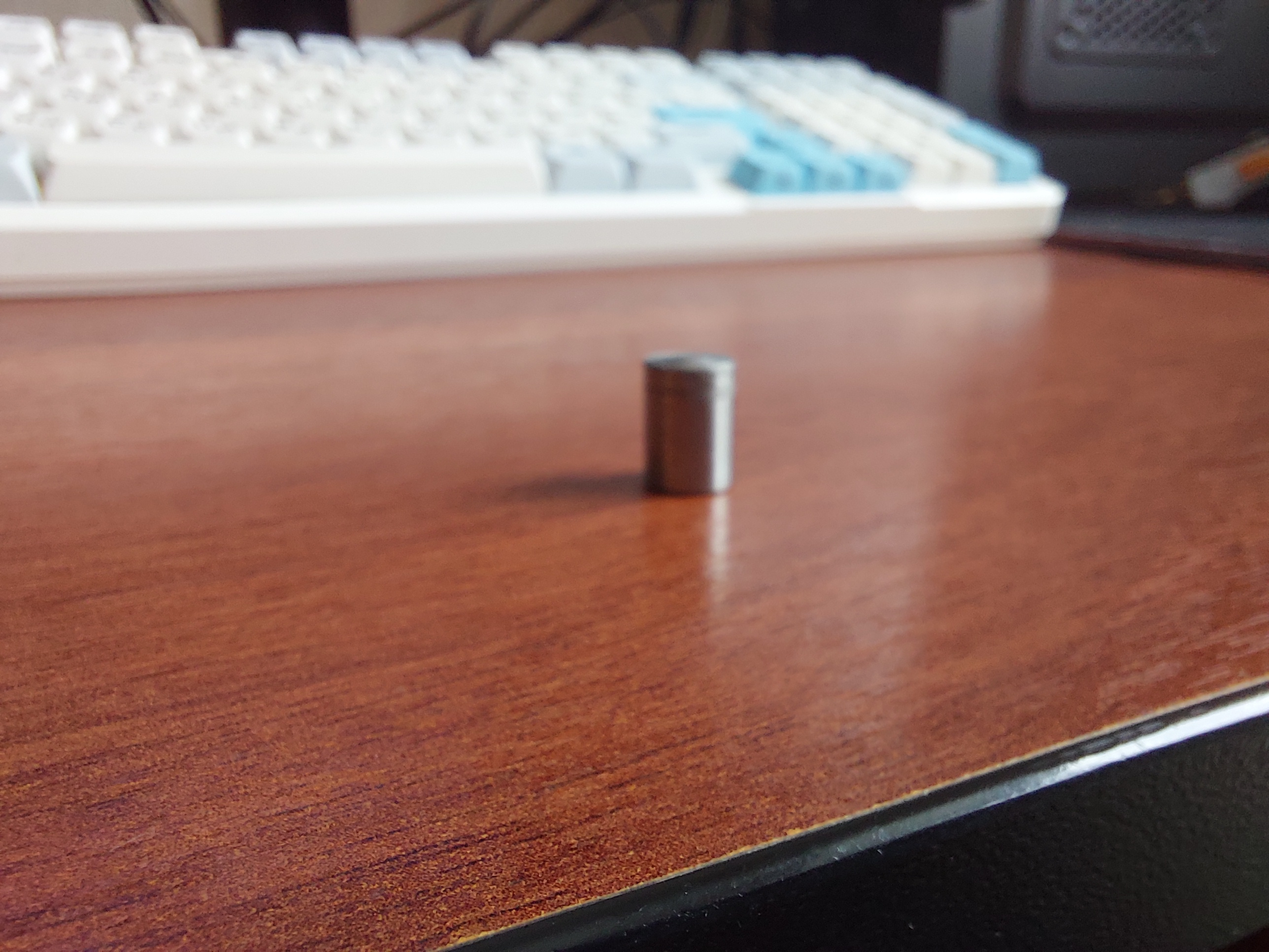tablet: (644, 352, 736, 496)
